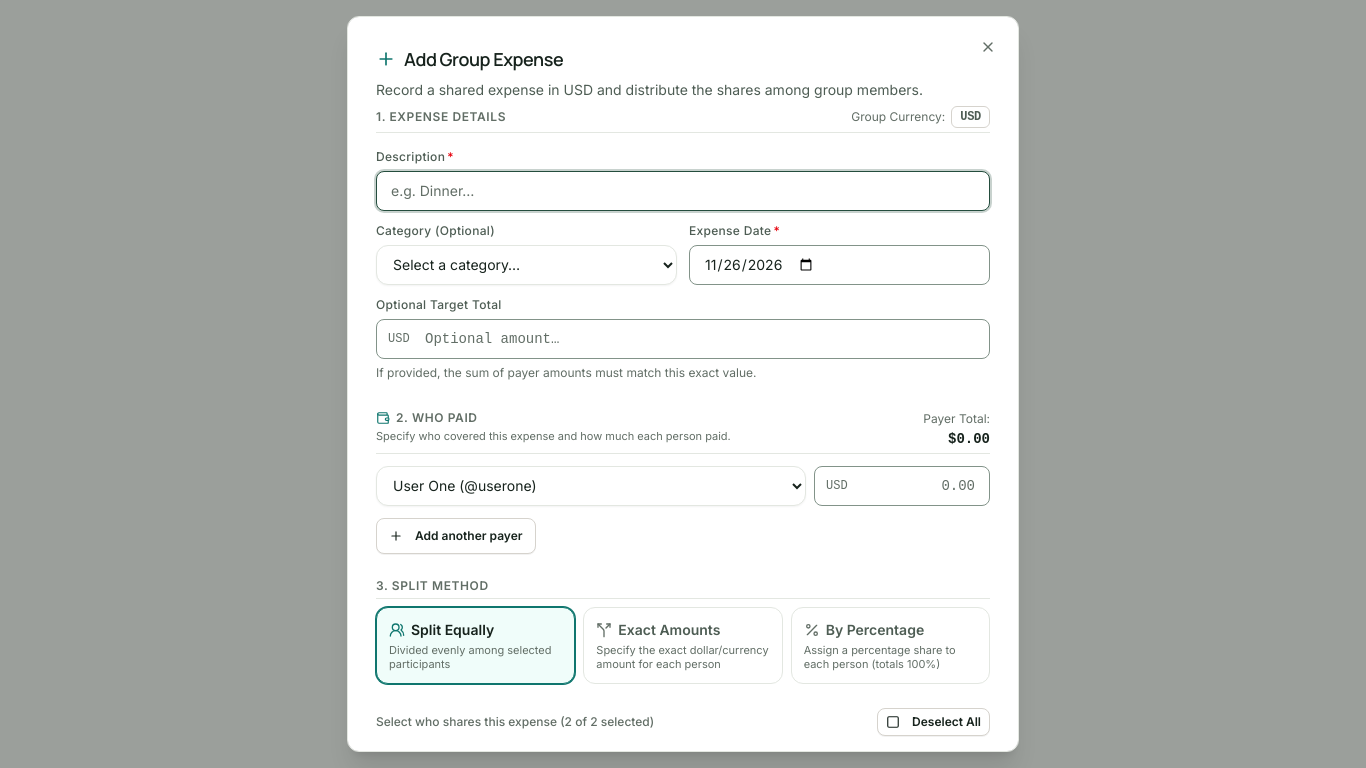
Expense Creation Frontend Tests › Add Expense Dialog Flow & Validation › prevents duplicate submissions while request is pending
This screenshot has width=1366, height=768.
Type "Dinner" into the field labelled "Description*". click: (683, 191)
box: [376,171,990,211]
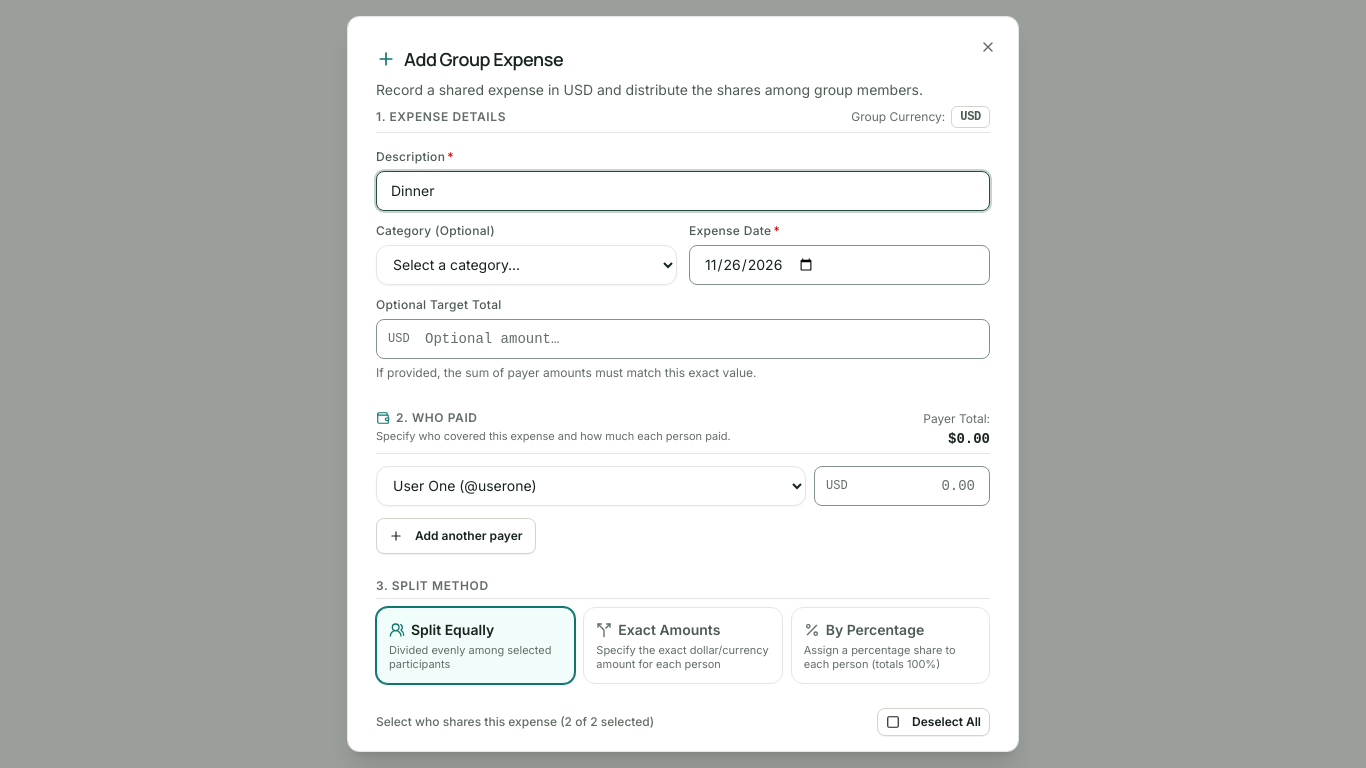
Type "100.00" into the field with placeholder "0.00". click: (902, 486)
box: [814,466,990,506]
(page scrolled)
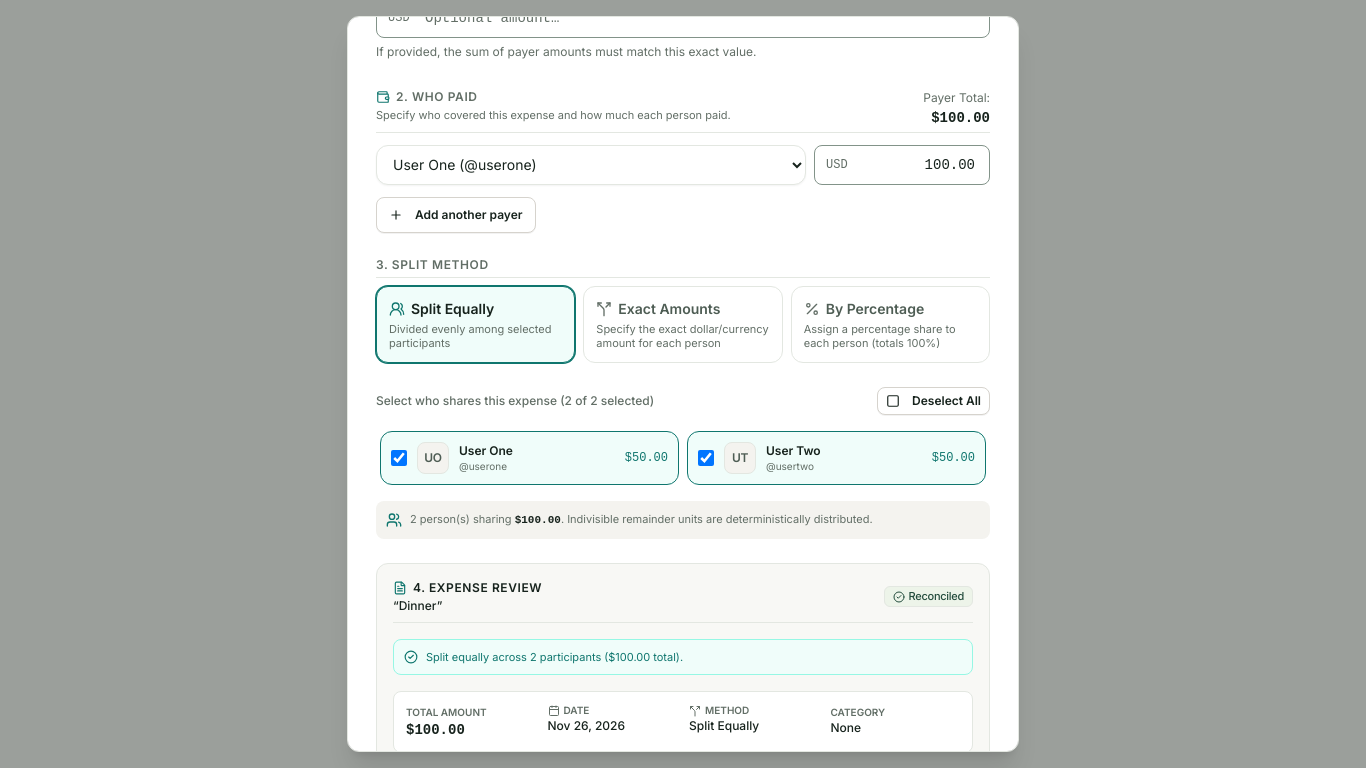
Submit the form
(page scrolled)
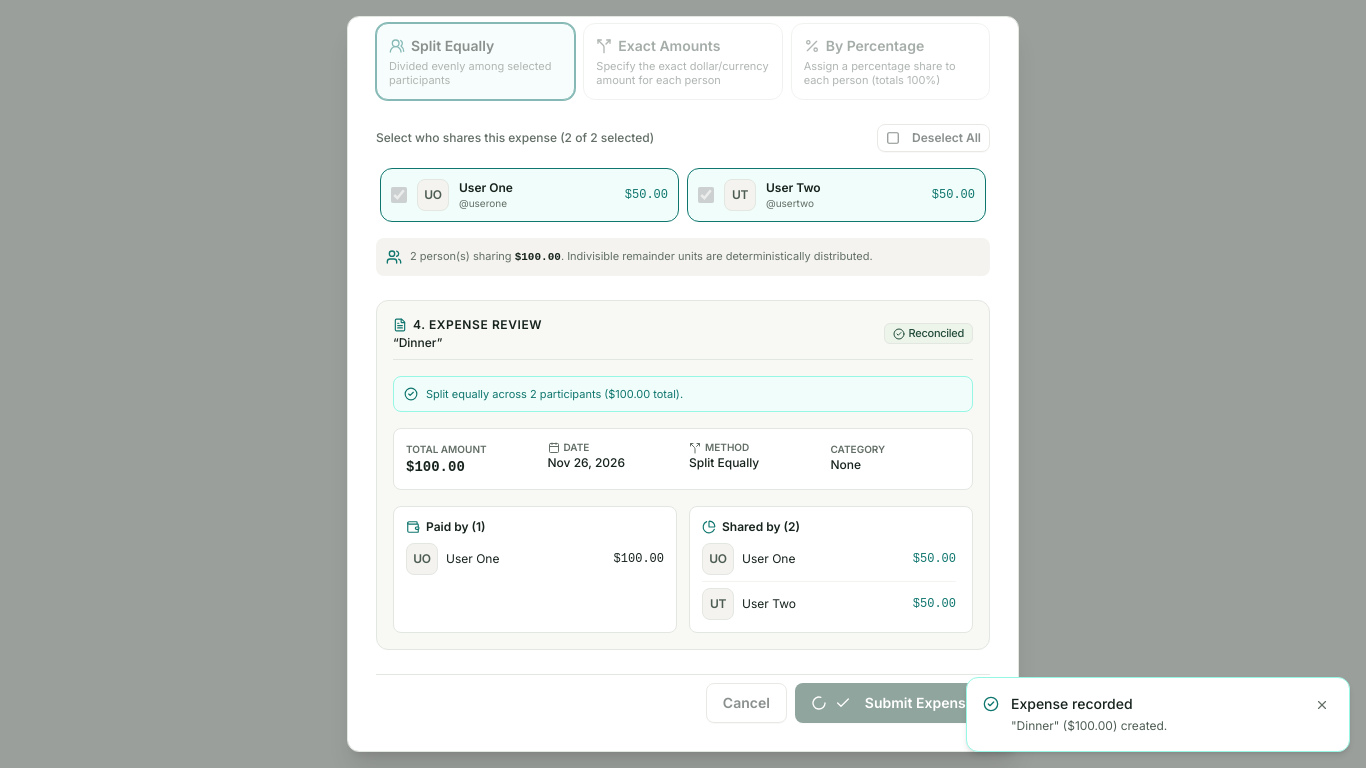
Expected: the button "Submit Expense" is disabled, [795,683,990,723]
